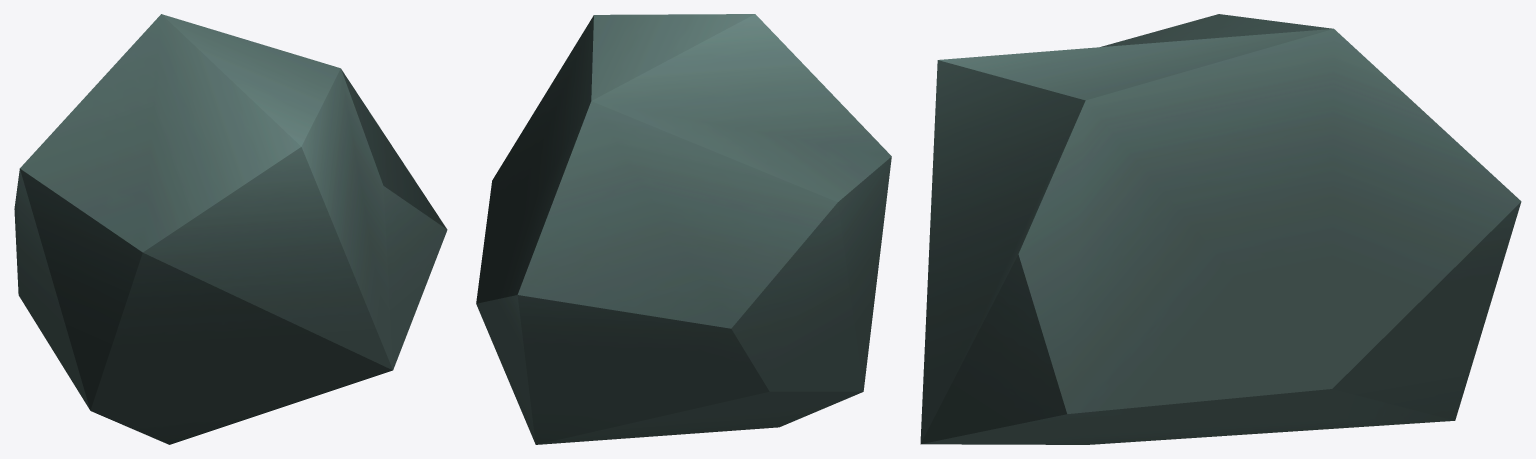
The model's file is FBX_Rocks_03.fbx.
The picture shows the model from 3 angles, left to right: view 1: azimuth 30°, elevation 25°; view 2: azimuth 150°, elevation 25°; view 3: azimuth 270°, elevation 25°; orthographic projection. The views are drawn at different scales.
Visible parts, largest first — view 1: M_Rock_03; view 2: M_Rock_03; view 3: M_Rock_03.
Boxes of the visible parts, bbox=[...] form: M_Rock_03: bbox=[14, 14, 447, 444]; M_Rock_03: bbox=[476, 14, 891, 444]; M_Rock_03: bbox=[920, 14, 1521, 444].
Size of the model in its own units: 2.2 by 1.95 by 2.25.
